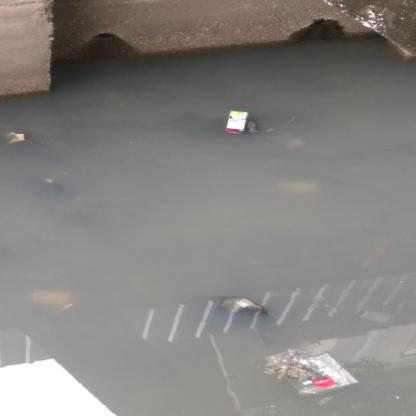karton: (226, 111, 250, 135)
